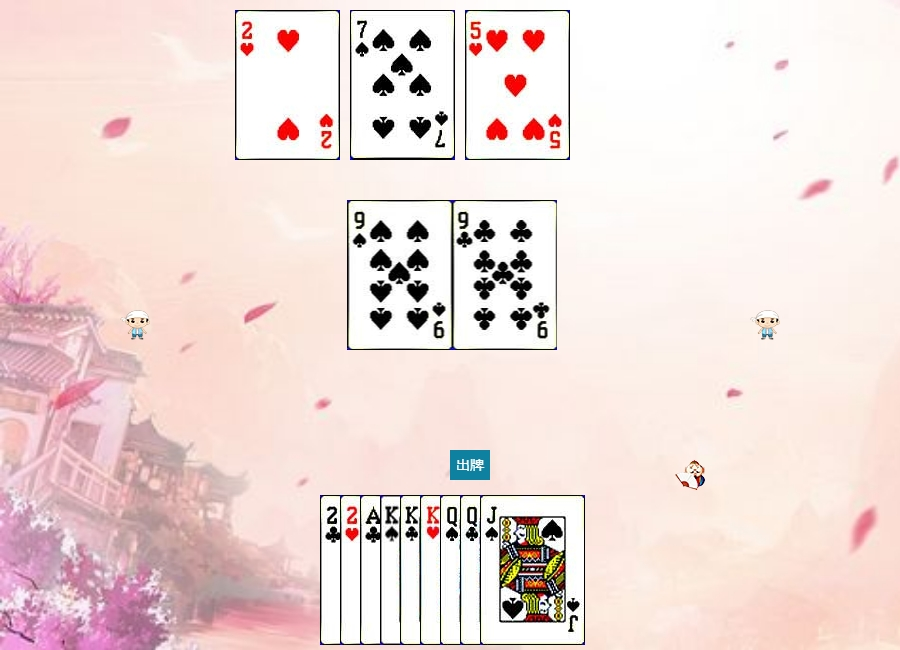11~4: (480, 495, 585, 645)
12~2: (460, 495, 565, 645)
12~4: (440, 495, 545, 645)
13~2: (400, 495, 505, 645)
13~3: (420, 495, 525, 645)
13~4: (380, 495, 485, 645)
14~2: (360, 495, 465, 645)
15~2: (320, 495, 425, 645)
15~3: (235, 10, 340, 160), (340, 495, 445, 645)
5~3: (465, 10, 570, 160)
7~4: (350, 10, 455, 160)
9~2: (453, 200, 558, 350)
9~4: (348, 200, 453, 350)
